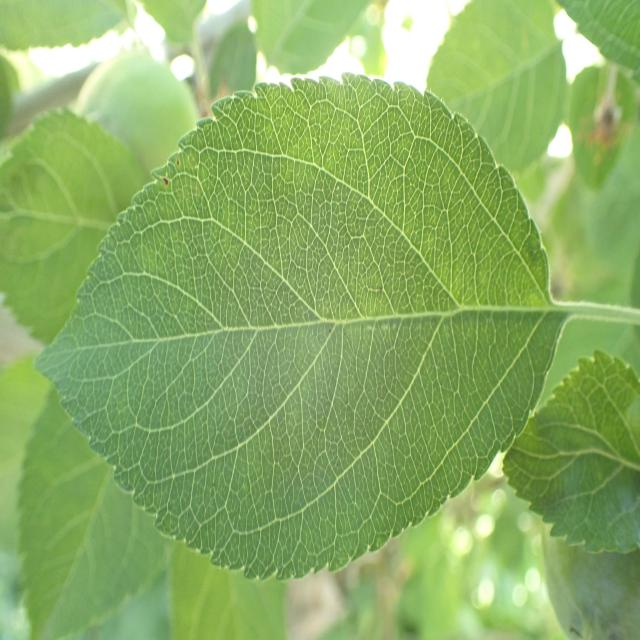healthy: (33, 72, 568, 580), (0, 352, 171, 640), (0, 106, 146, 346), (500, 348, 640, 554), (425, 0, 568, 174), (251, 0, 386, 80), (555, 0, 640, 86)
